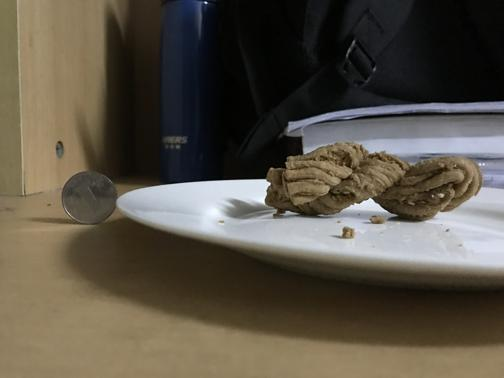coin: (59, 170, 116, 223)
fired_dough_twist: (260, 147, 479, 218)
